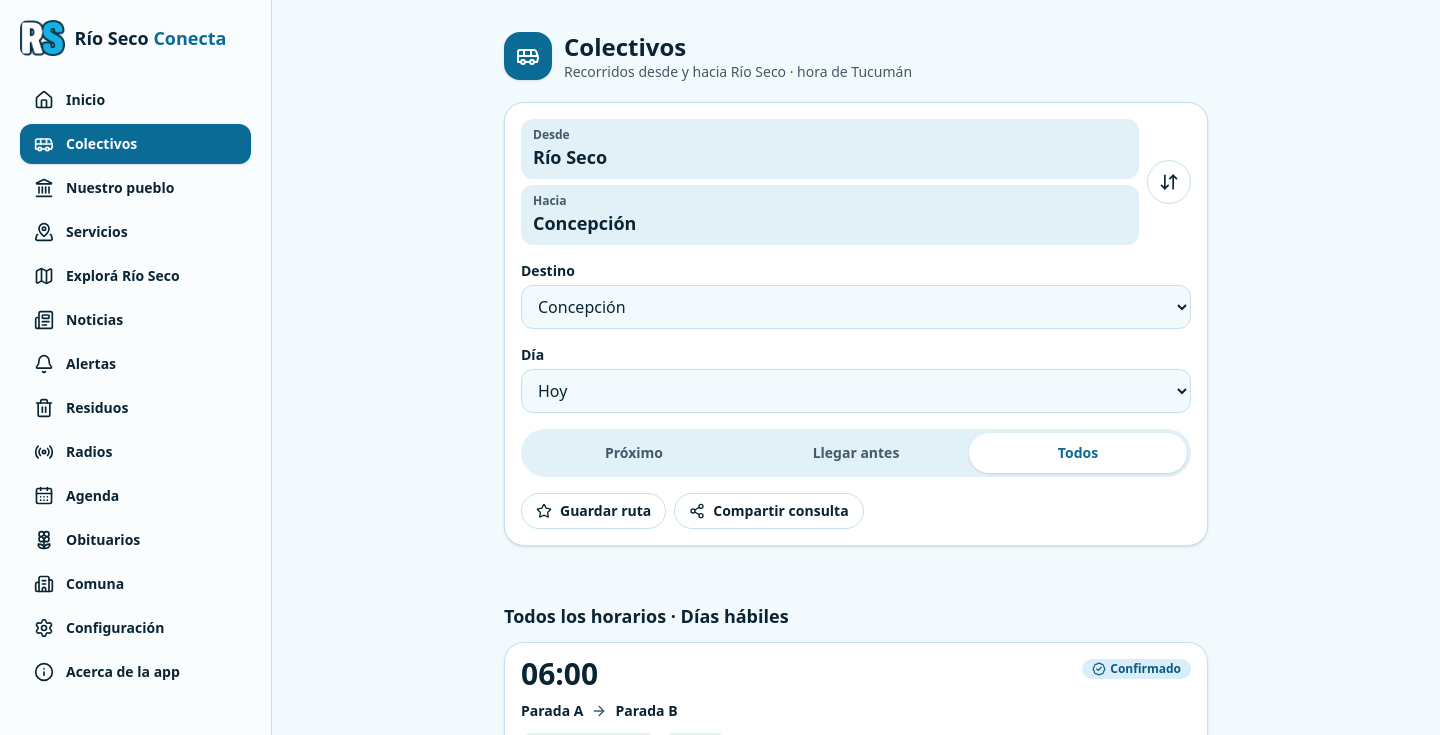
colectivos › con datos sintéticos lista todos los horarios y guarda favoritos
The image size is (1440, 735).
Expected: the text "06:00" is shown, x1=521 y1=659 x2=598 y2=689
Expected: the text "Confirmado" is shown, x1=1082 y1=659 x2=1191 y2=679
Step 1. Click the button "Guardar ruta" → (594, 511), box x1=521 y1=493 x2=666 y2=529
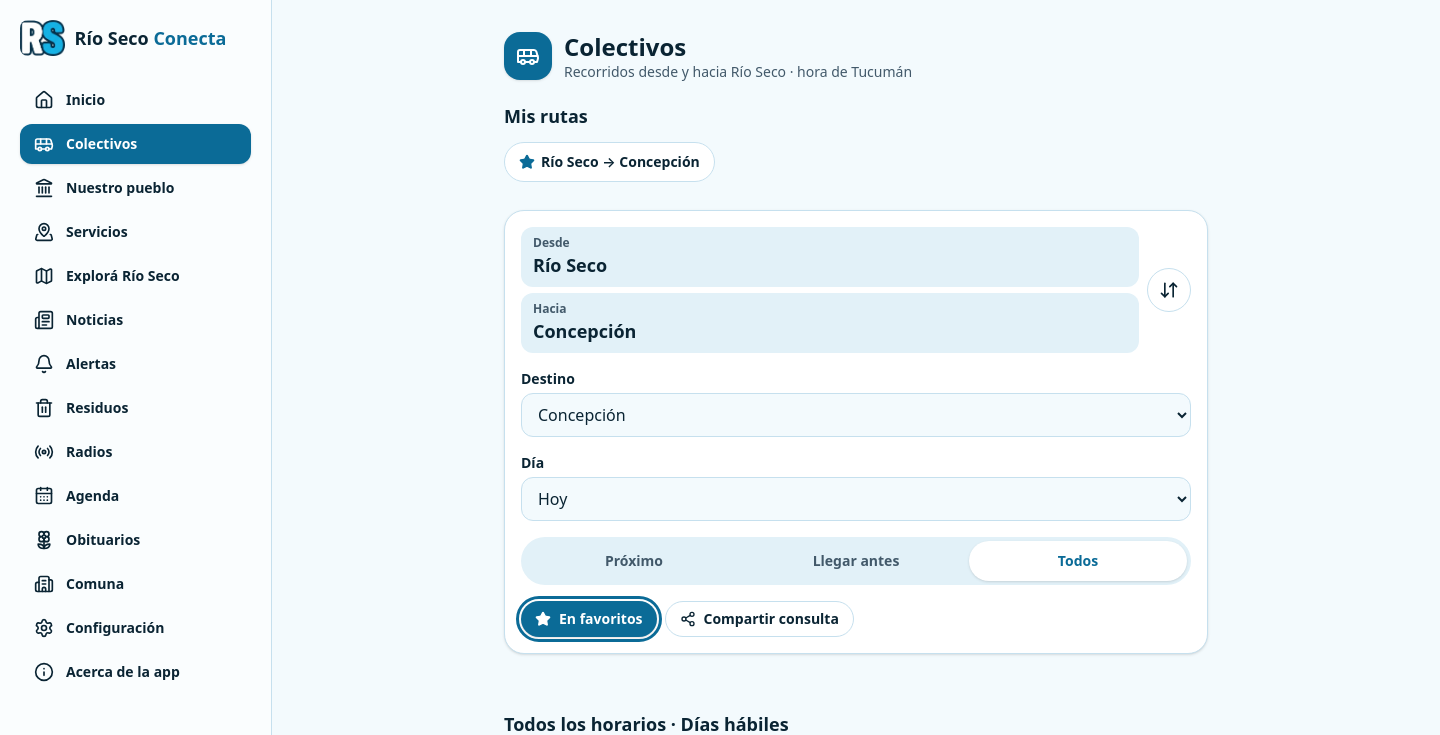
Expected: the link "Río Seco → Concepción" is shown, x1=504 y1=142 x2=715 y2=182
